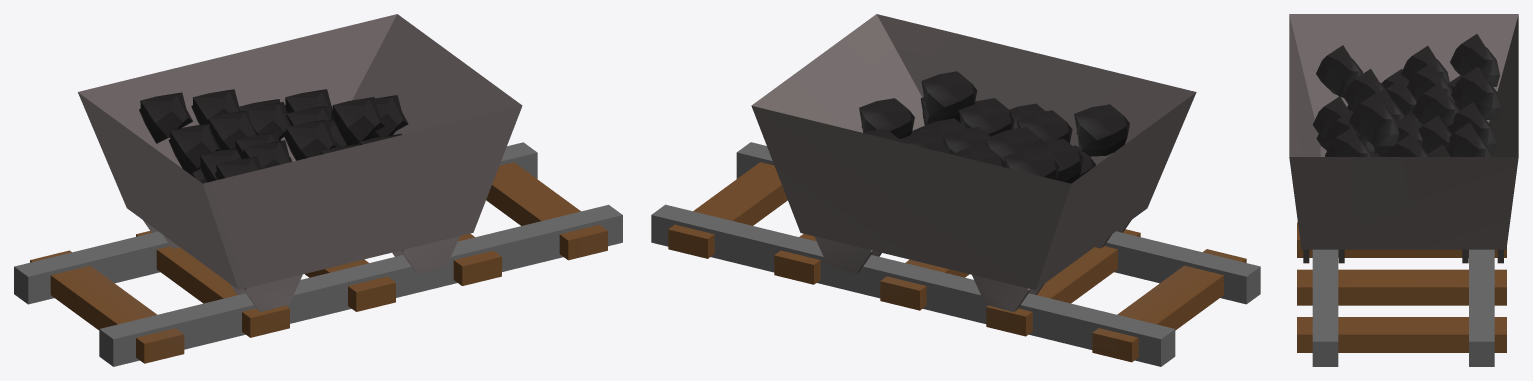
File: Carrinho.fbx
The picture shows the model from 3 angles, left to right: view 1: azimuth 30°, elevation 25°; view 2: azimuth 150°, elevation 25°; view 3: azimuth 270°, elevation 25°; orthographic projection. The views are drawn at different scales.
Parts seen in each view (by area): view 1: LOD_0; view 2: LOD_0; view 3: LOD_0.
Part boxes in pixels (x1,y1,x2,y2): LOD_0: (14, 14, 622, 366); LOD_0: (651, 14, 1260, 366); LOD_0: (1289, 14, 1518, 366).
Size of what is drawn, in the model's own units: 186 by 60.92 by 79.25.
